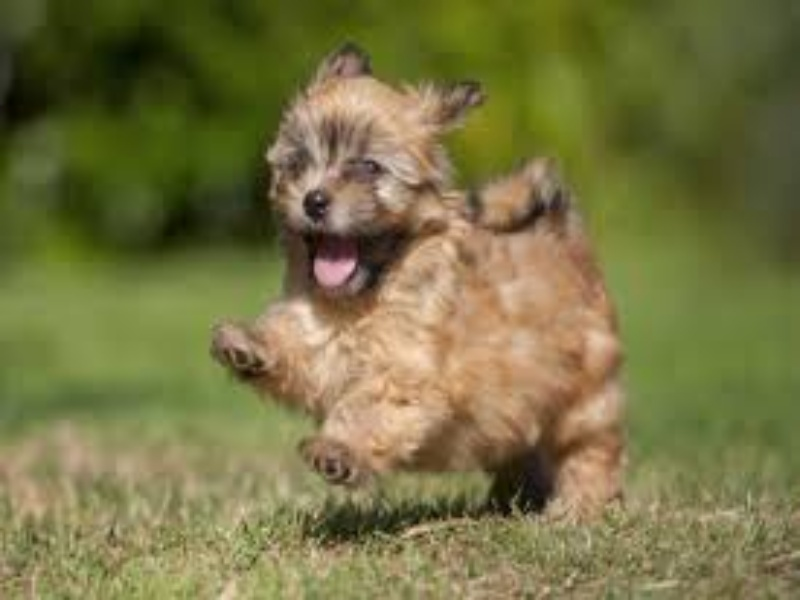dog: (207, 39, 644, 548)
